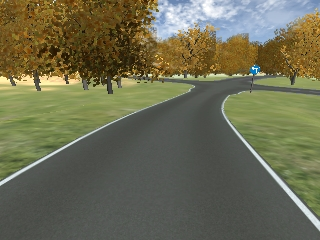left: (250, 66, 260, 74)
